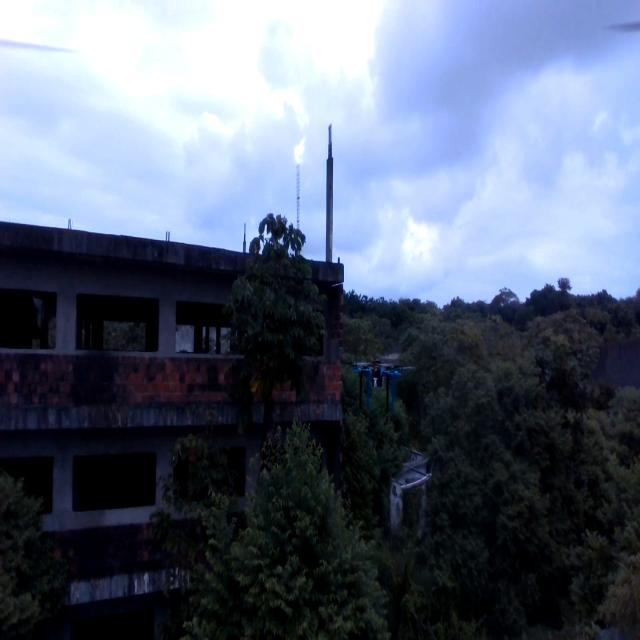-uav-: (349, 348, 417, 419)
